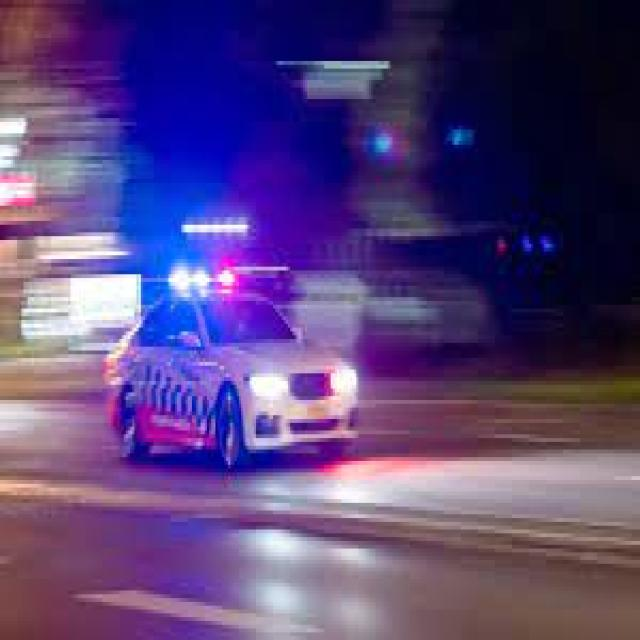emergency lights: (166, 256, 264, 320)
